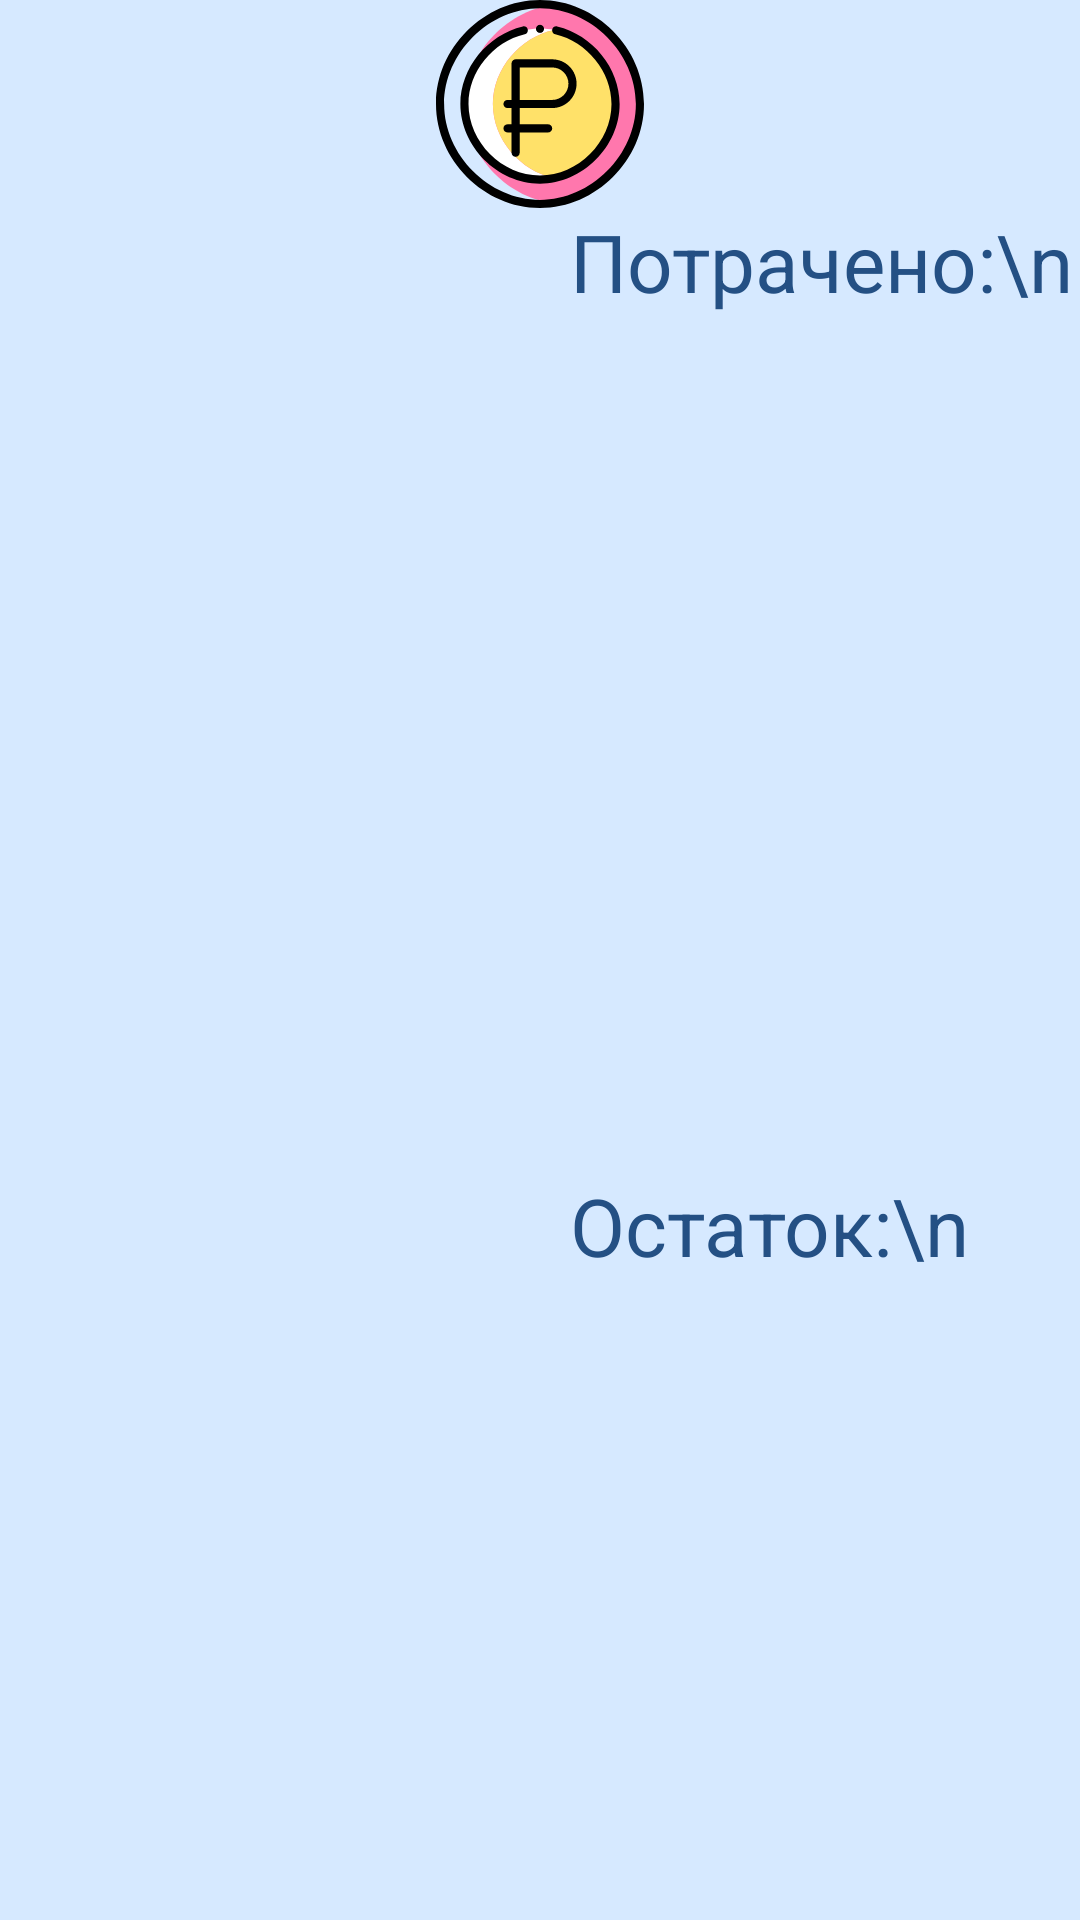

Named icons in this screenshot (1080w x 1920h) and their centers, (x=x, y=y):
ruble: (x=540, y=104)
